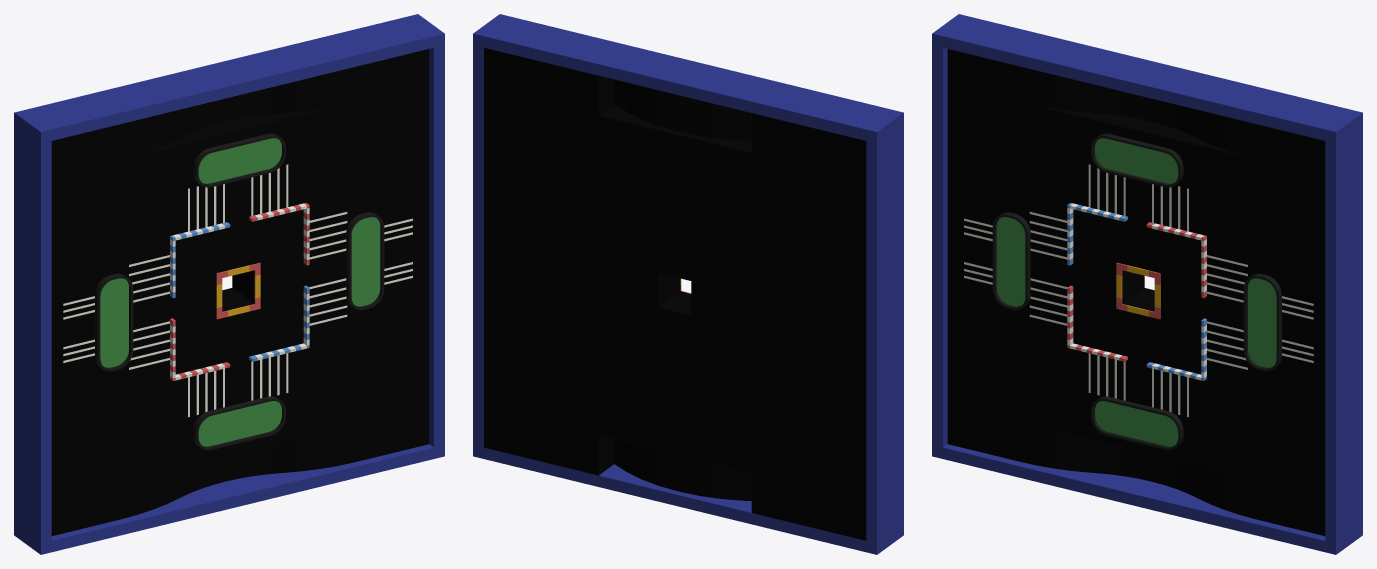
The model's file is Track 2 - Smash Cars.fbx.
3 renders of one model, left to right at view 1: azimuth 30°, elevation 25°; view 2: azimuth 150°, elevation 25°; view 3: azimuth 330°, elevation 25°, orthographic.
Parts seen in each view (by area): view 1: Body100, Body103, Body95, Body96, Body94, Body90, Body92, Body98, Body99, Body97; view 2: Body100, Body103; view 3: Body100, Body103, Body90, Body96, Body94, Body95, Body98, Body92, Body99, Body97.
Part boxes in pixels (x1,y1,x2,y2): Body100: (51,49,429,535); Body103: (14,14,444,554); Body95: (351,217,380,306); Body96: (198,138,281,183); Body94: (198,401,281,446); Body90: (100,278,128,367); Body92: (95,273,133,371); Body98: (346,212,384,310); Body99: (193,133,285,187); Body97: (193,396,285,450); Body100: (484,47,866,540); Body103: (473,14,903,554); Body100: (947,49,1325,535); Body103: (932,14,1362,554); Body90: (996,217,1025,306); Body96: (1095,138,1178,183); Body94: (1095,401,1178,446); Body95: (1248,278,1276,367); Body98: (1243,273,1281,371); Body92: (992,212,1030,310); Body99: (1091,133,1183,187); Body97: (1091,396,1183,450).
Bounding box in the file's own units: 370 × 370 × 42.5.
